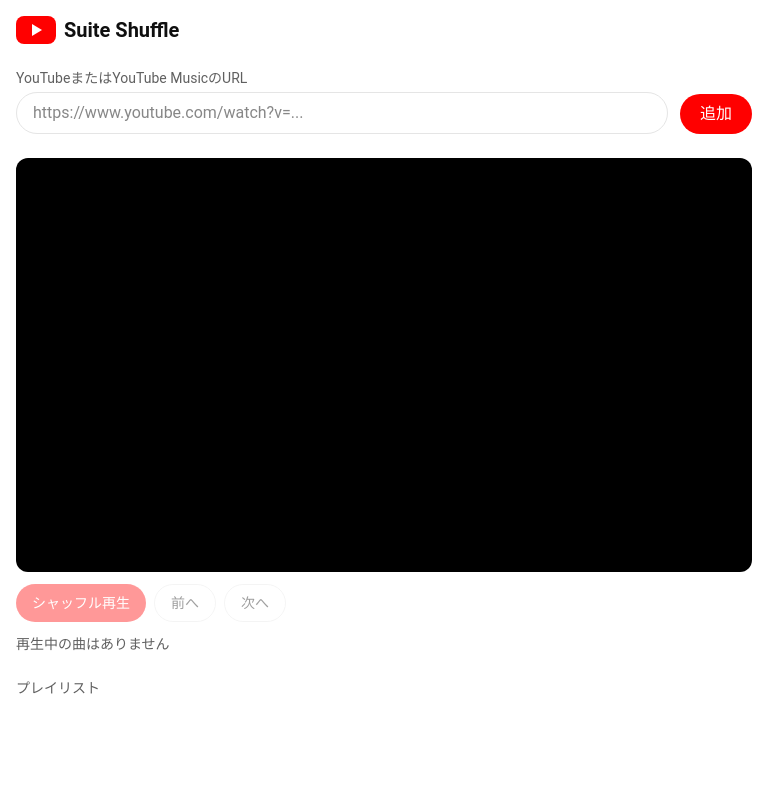
Test: App › サポート対象のYouTube URLを送信すると、プレイリストに追加される
The image size is (769, 787).
Type "https://www.youtube.com/watch?v=dQw4w9WgXcQ" into the field labelled "YouTubeまたはYouTube MusicのURL" at [342, 113], box [16,92,668,134]
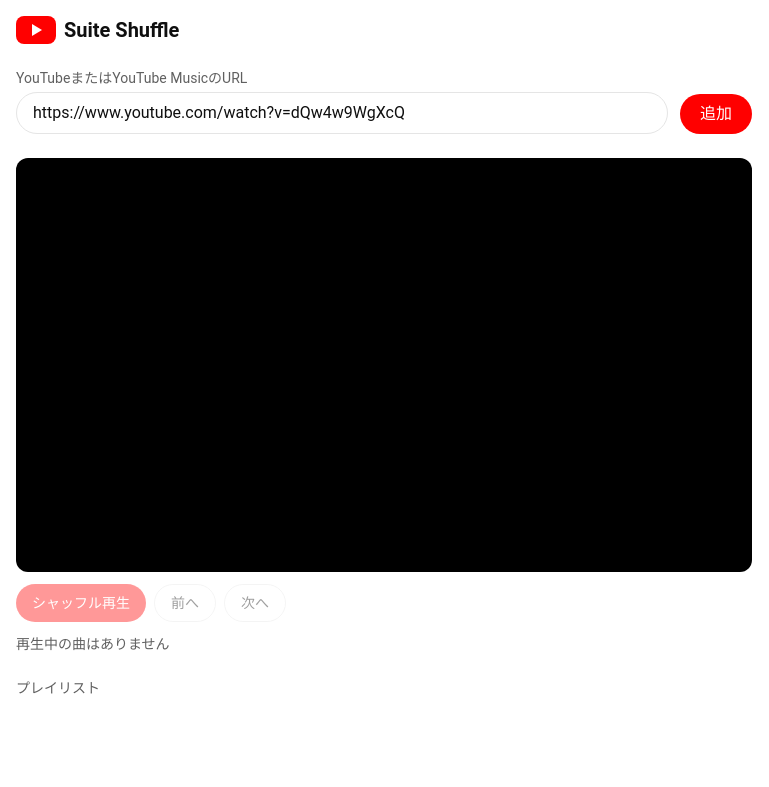
Click the button "追加" at [716, 114], box [680,94,752,134]
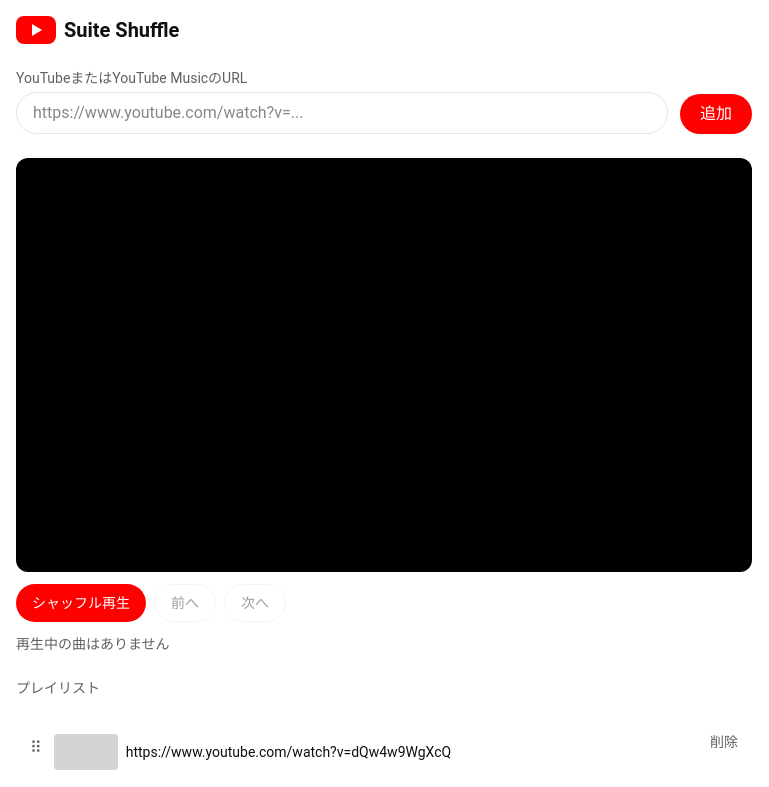
Expected: the text "https://www.youtube.com/watch?v=dQw4w9WgXcQ" is shown, [126,742,451,762]
Expected: the button "シャッフル再生" is enabled, [16,584,146,622]
